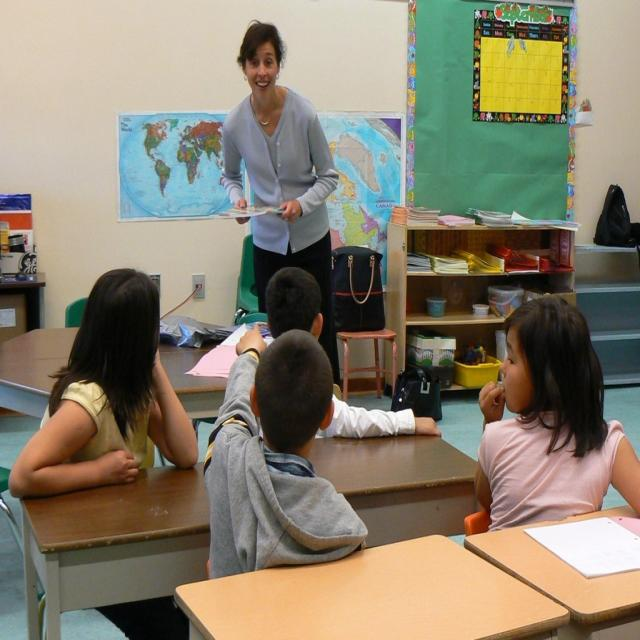chair: (66, 298, 88, 328)
desk: (164, 451, 640, 630)
person: (5, 268, 202, 497), (461, 294, 640, 535), (202, 330, 370, 578), (220, 19, 340, 362)
